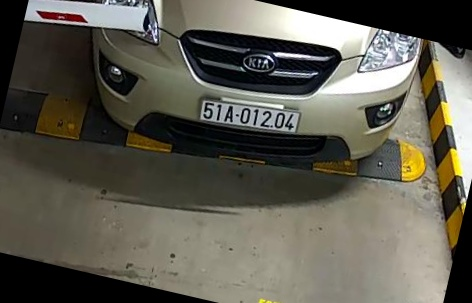plate: (196, 93, 303, 138)
